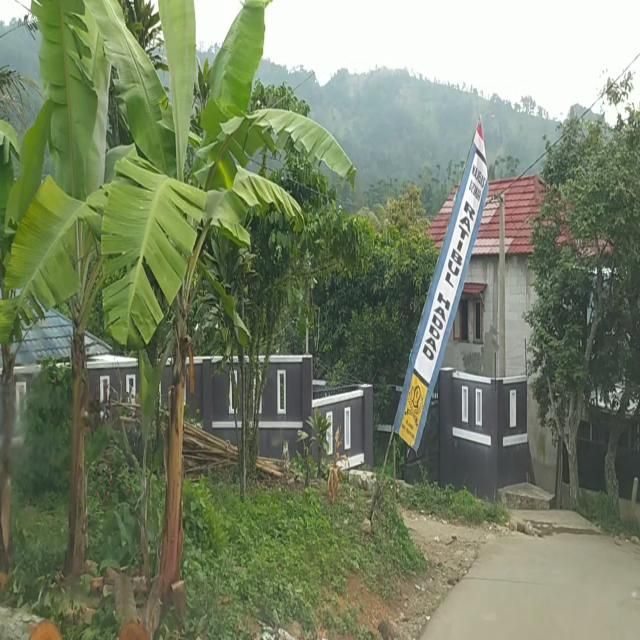Sewer Cover: (460, 574, 548, 586)
